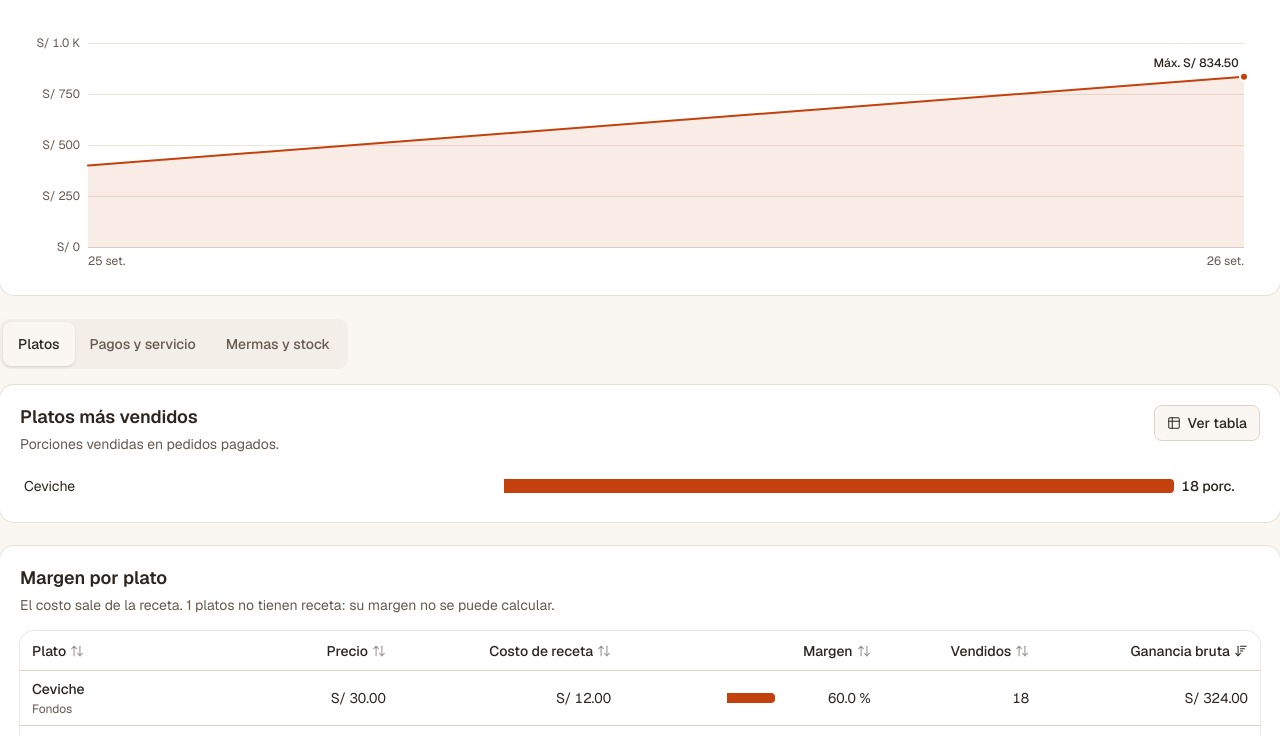
Test: InsightsView: secciones › platos, medios de pago, meseros y stock bajo muestran sus datos
(page scrolled)
Expected: the text "18 porc." is shown, [1182, 476, 1234, 496]
Click the tab "Pagos y servicio": (143, 344) [74, 322, 211, 366]
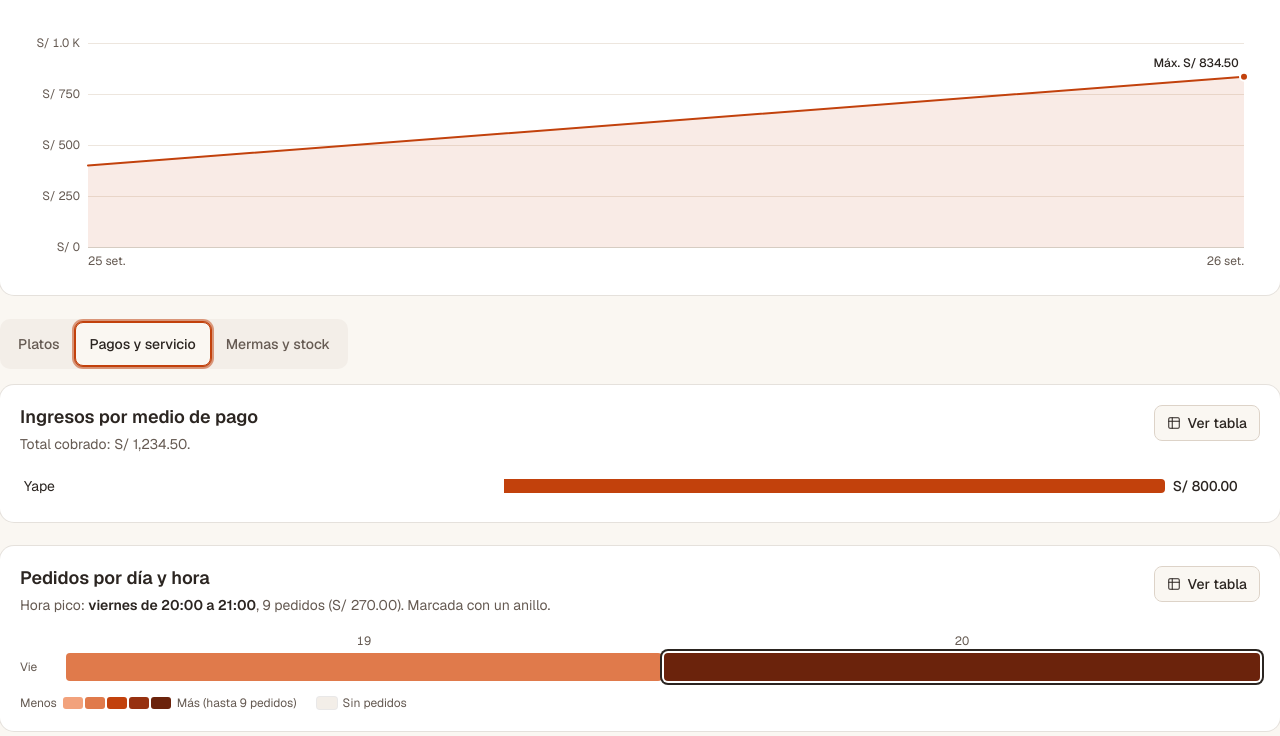
Expected: the text "Total cobrado: S/ 1,234.50." is shown, [20, 435, 190, 453]
Click the tab "Mermas y stock": (278, 344) [211, 322, 345, 366]
(page scrolled)
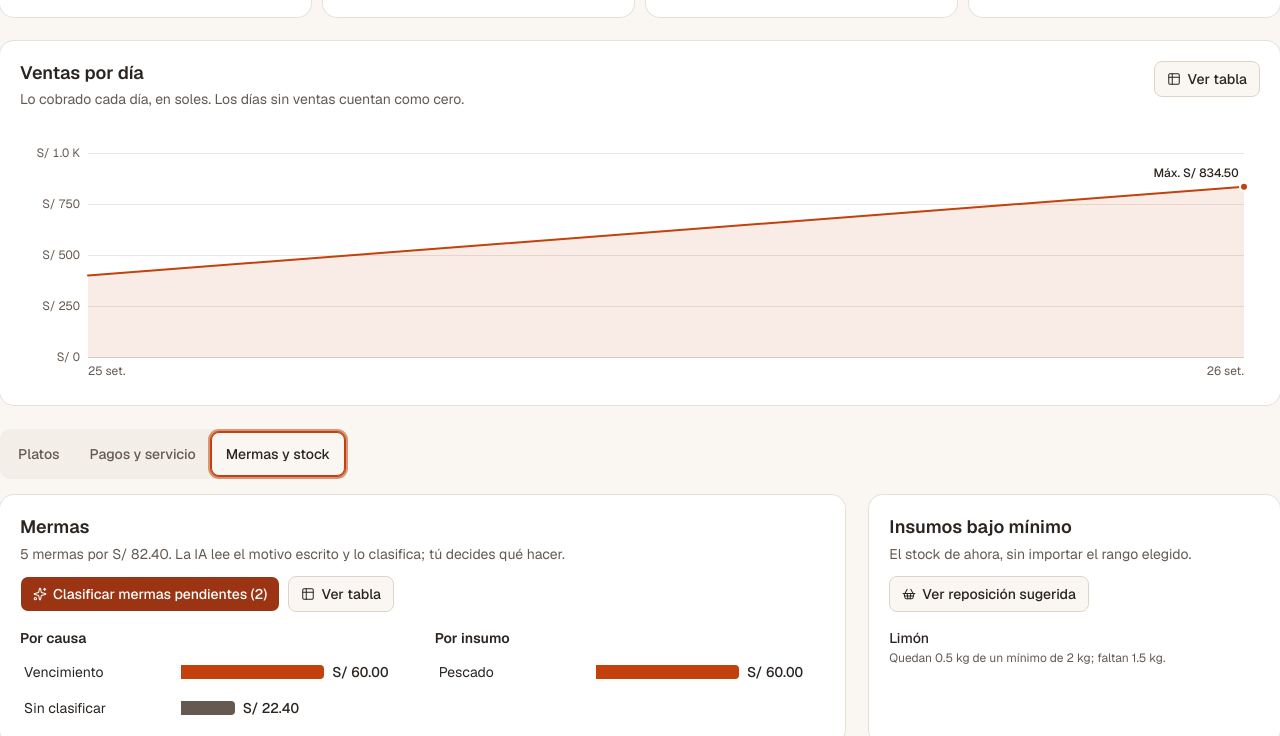
Expected: the text "Quedan 0.5 kg de un mínimo de 2 kg; faltan 1.5 kg." is shown, [889, 650, 1165, 666]
